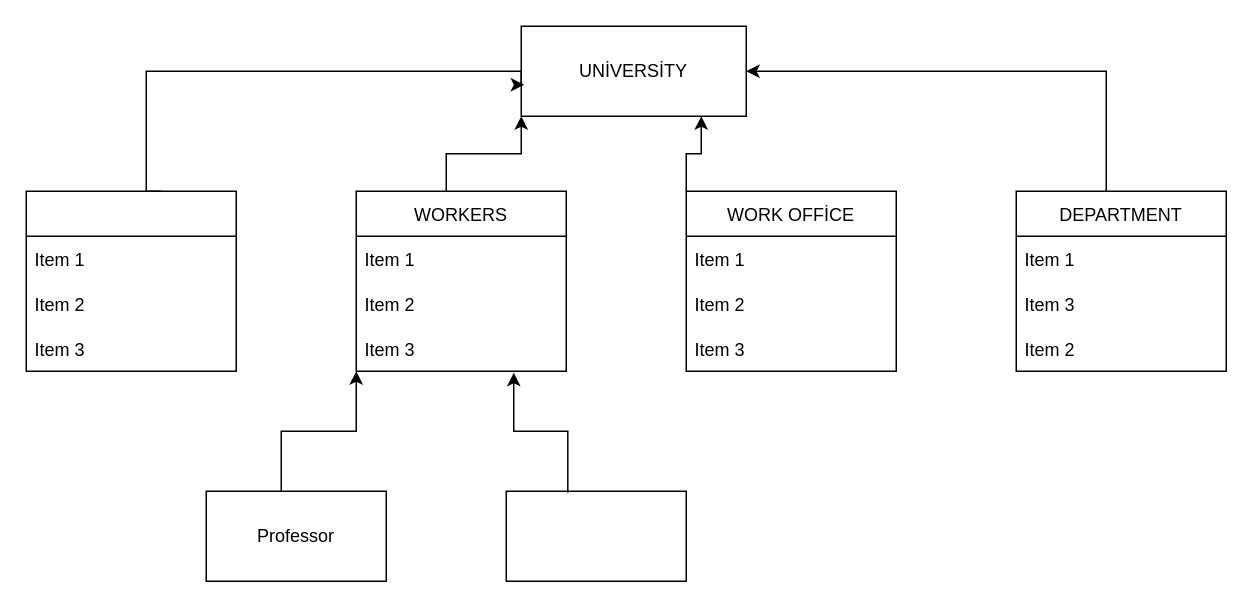
Some shapes in this 1253 by 608 pixel diagram are drawn without their labels. The shapes that lost their labels are listed below. From the top down, each one's box as (x1, y1, x2, y2) in pixels, then its label:
(25, 190, 236, 371): CLASS
(505, 490, 686, 581): Officer
